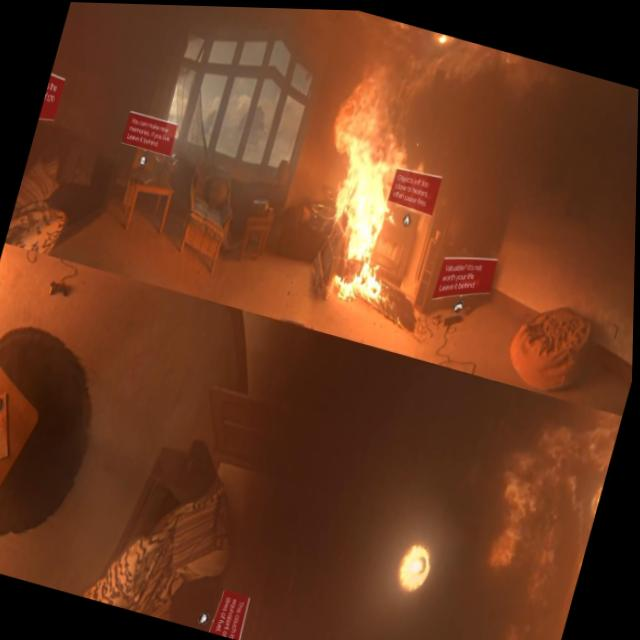fire: (288, 55, 467, 325)
